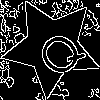Q: (27, 21, 89, 83)
